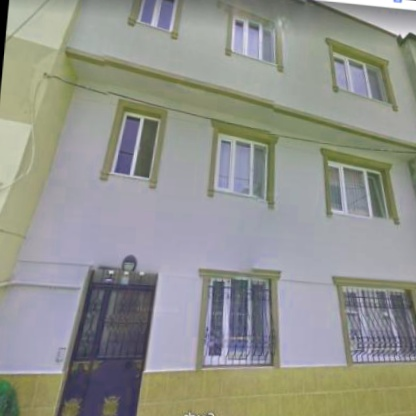door: (58, 267, 157, 416)
